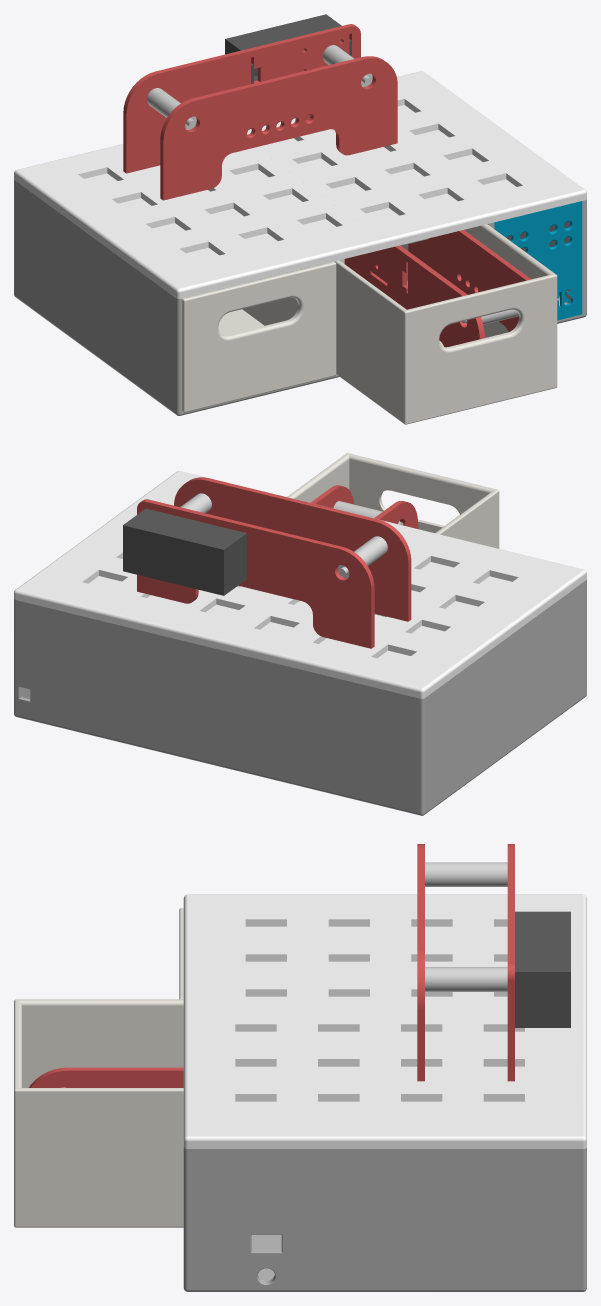
The model's file is cell-transformed.glb.
The picture shows the model from 3 angles, top to bottom: view 1: azimuth 30°, elevation 25°; view 2: azimuth 150°, elevation 25°; view 3: azimuth 270°, elevation 25°; orthographic projection. The views are drawn at different scales.
Parts seen in each view (by area): view 1: Body_1 (×14), Body_2; view 2: Body_1 (×11), Body_2; view 3: Body_1 (×10).
Boxes of the visible parts, x1=… form: Body_1 (×14): x1=14, y1=14, x2=586, y2=424; Body_2: x1=15, y1=181, x2=182, y2=412; Body_1 (×11): x1=14, y1=453, x2=586, y2=815; Body_2: x1=425, y1=580, x2=586, y2=810; Body_1 (×10): x1=14, y1=844, x2=586, y2=1291.
Bounding box in the file's own units: 0.3556 × 0.1816 × 0.3519.
